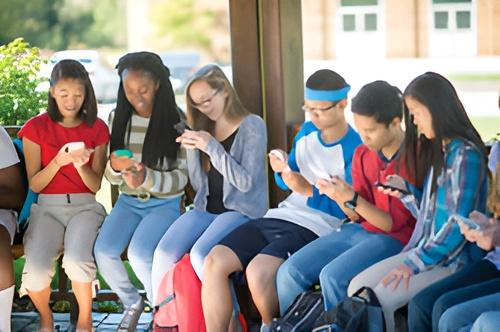phone: (378, 71, 488, 258), (318, 81, 421, 233), (177, 65, 273, 216), (268, 70, 359, 226), (107, 52, 191, 194), (21, 59, 107, 196), (455, 92, 500, 252)
